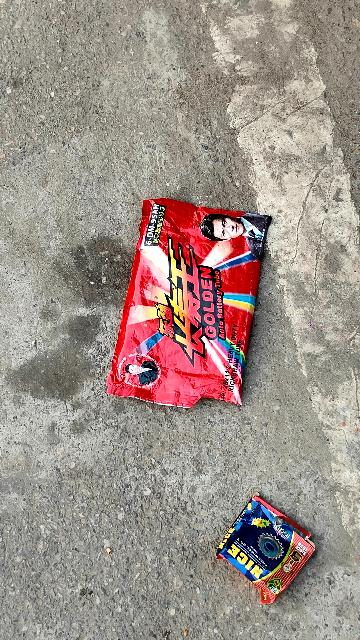packet: (109, 189, 271, 415), (194, 469, 333, 608)
